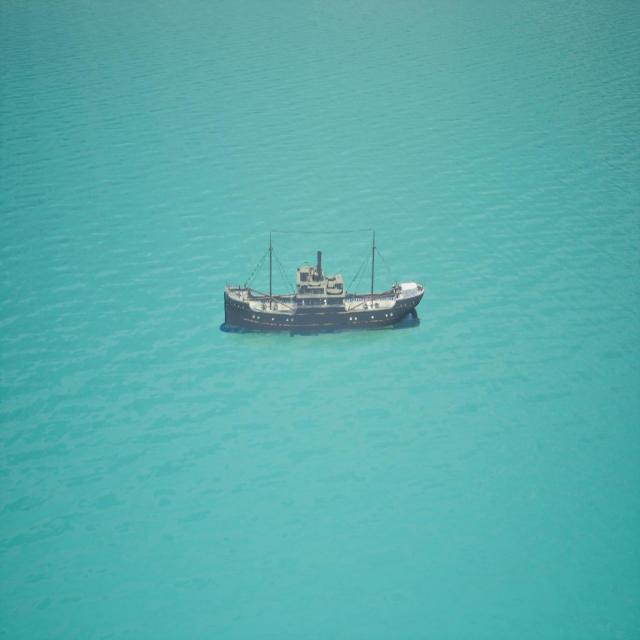fishing ship: (225, 230, 424, 333)
